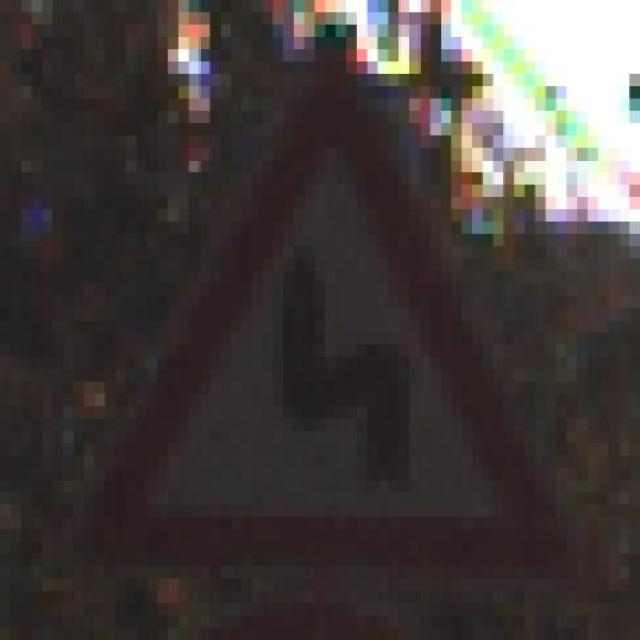Left Zig Zag Traffic: (79, 51, 583, 592)
